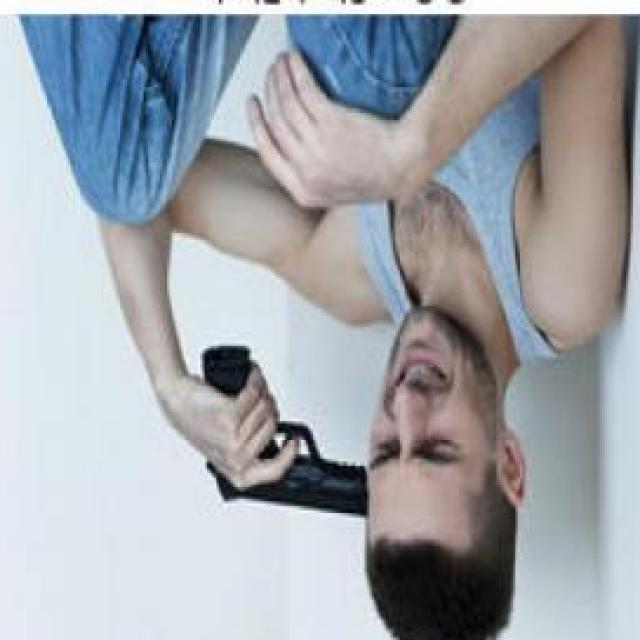pistol: (204, 346, 372, 527)
